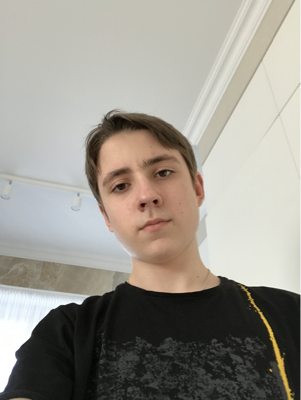without_mask: (98, 150, 199, 265)
